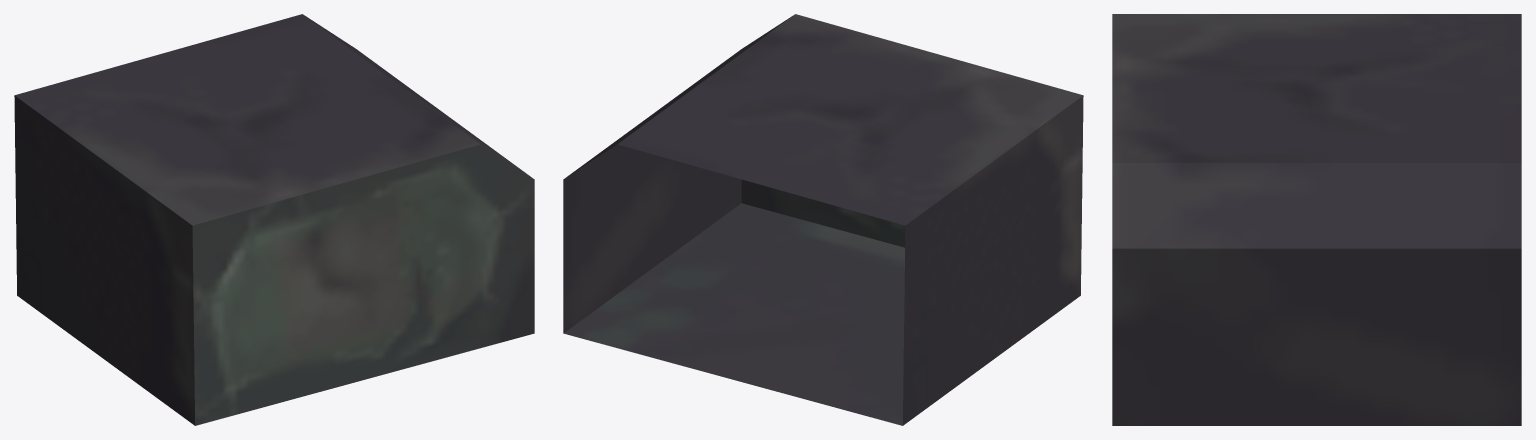
Rendered from yw_shanlin_doorstones_24.FBX.
3 renders of one model, left to right at view 1: azimuth 30°, elevation 25°; view 2: azimuth 150°, elevation 25°; view 3: azimuth 270°, elevation 25°, orthographic. The views are drawn at different scales.
Visible parts, largest first — view 1: yw_shanlin_doorstones_24; view 2: yw_shanlin_doorstones_24; view 3: yw_shanlin_doorstones_24.
Part boxes in pixels (left/top/right/bottom): yw_shanlin_doorstones_24: left=14, top=14, right=534, bottom=425; yw_shanlin_doorstones_24: left=563, top=14, right=1083, bottom=425; yw_shanlin_doorstones_24: left=1112, top=14, right=1521, bottom=425.
Bounding box in the file's own units: 23.7 × 14.04 × 21.38.
